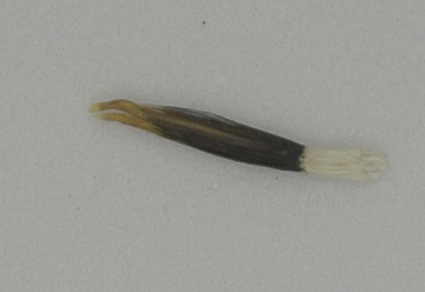เมล้ดปลายพู่กัน: (88, 97, 390, 182)
